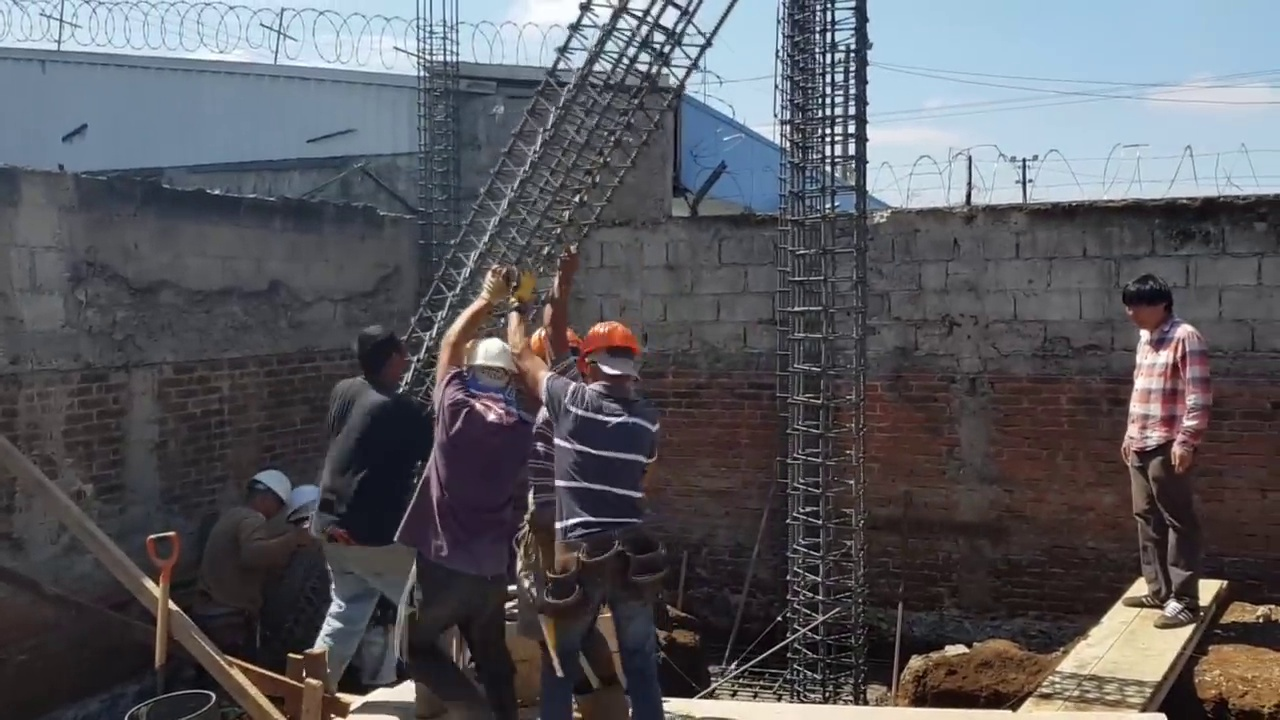helmet: (578, 319, 648, 369), (452, 339, 522, 379), (529, 323, 579, 359), (250, 470, 294, 505), (287, 485, 321, 523)
helmet-off: (1128, 279, 1185, 340), (353, 330, 403, 390)
helmet-on: (578, 322, 647, 397), (455, 335, 520, 412), (237, 474, 296, 525), (529, 321, 580, 379)
person: (535, 311, 674, 701), (419, 291, 545, 708), (314, 320, 435, 694), (1120, 284, 1217, 657), (192, 471, 321, 661), (515, 321, 578, 600)
